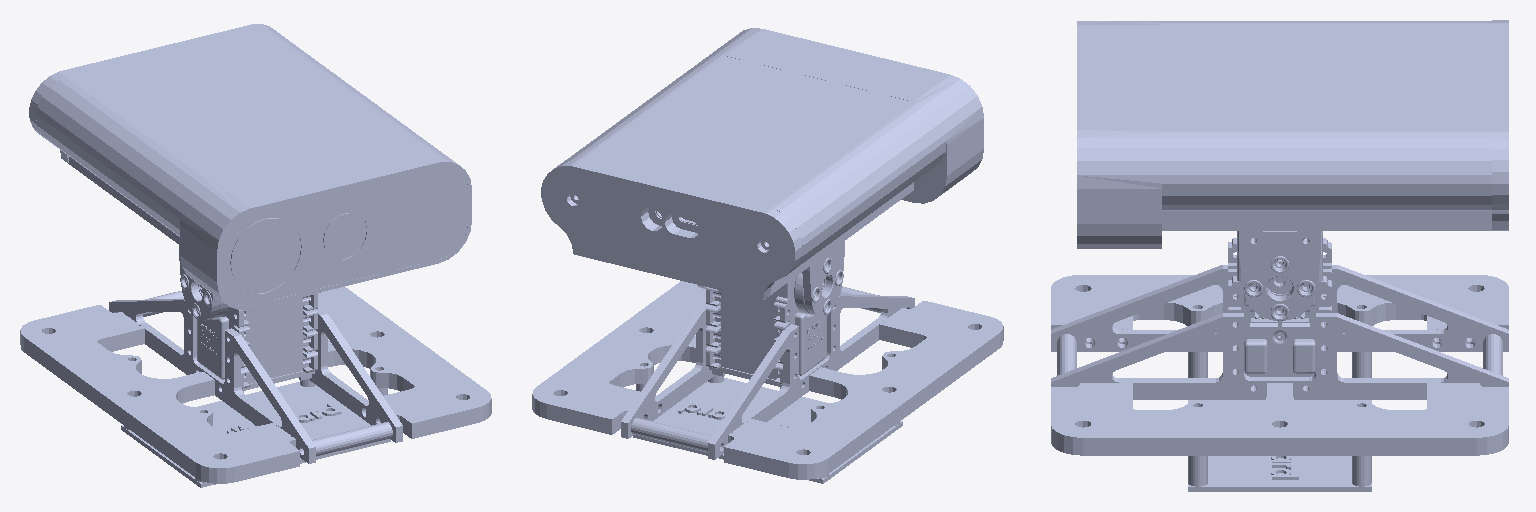
The robot description file, URDF, robot "harvest-studio":
<?xml version="1.0" encoding="utf-8"?>
<!-- This URDF was automatically created by SolidWorks to URDF Exporter! Originally created by [author] ([email redacted]) 
     Commit Version: 1.6.0-1-g15f4949  Build Version: 1.6.7594.29634
     For more information, please see http://wiki.ros.org/sw_urdf_exporter -->
<robot
  name="harvest-studio">
  <link
    name="stand_base">
    <inertial>
      <origin
        xyz="0.000696907579288551 0.241579417748028 0.0643234810436763"
        rpy="0 0 0" />
      <mass
        value="10.2530883442845" />
      <inertia
        ixx="0.301757152337457"
        ixy="1.10550578936288E-09"
        ixz="1.09640049684751E-07"
        iyy="0.326245406728091"
        iyz="-1.56034601111371E-10"
        izz="0.10209204718156" />
    </inertial>
    <visual>
      <origin
        xyz="0 0 0"
        rpy="0 0 0" />
      <geometry>
        <mesh
          filename="package://harvest-studio/meshes/stand_base.STL" />
      </geometry>
      <material
        name="">
        <color
          rgba="0.792156862745098 0.819607843137255 0.933333333333333 1" />
      </material>
    </visual>
    <collision>
      <origin
        xyz="0 0 0"
        rpy="0 0 0" />
      <geometry>
        <mesh
          filename="package://harvest-studio/meshes/stand_base.STL" />
      </geometry>
    </collision>
  </link>
  <link
    name="camera_link">
    <inertial>
      <origin
        xyz="-2.65395705622336E-06 0.00348131731693191 0.0446566695341748"
        rpy="0 0 0" />
      <mass
        value="2.78889236681529" />
      <inertia
        ixx="0.00412183232658975"
        ixy="4.09236432592102E-07"
        ixz="-3.17078315948989E-08"
        iyy="0.00242404662476709"
        iyz="0.000234310769319973"
        izz="0.0060958781082902" />
    </inertial>
    <visual>
      <origin
        xyz="0 0 0"
        rpy="0 0 0" />
      <geometry>
        <mesh
          filename="package://harvest-studio/meshes/camera_link.STL" />
      </geometry>
      <material
        name="">
        <color
          rgba="0.792156862745098 0.819607843137255 0.933333333333333 1" />
      </material>
    </visual>
    <collision>
      <origin
        xyz="0 0 0"
        rpy="0 0 0" />
      <geometry>
        <mesh
          filename="package://harvest-studio/meshes/camera_link.STL" />
      </geometry>
    </collision>
  </link>
  <joint
    name="camera_joint"
    type="fixed">
    <origin
      xyz="0.00085 0.465 0.98"
      rpy="0 0 -3.1416" />
    <parent
      link="stand_base" />
    <child
      link="camera_link" />
    <axis
      xyz="1 0 0" />
    <limit
      lower="-0.5"
      upper="0.5"
      effort="0"
      velocity="0" />
  </joint>
</robot>

--- What the picture shows (computed from the rendered views, not written in the file) ---
3 views of the same robot in one strip: view 1: azimuth 30°, elevation 25°; view 2: azimuth 150°, elevation 25°; view 3: azimuth 270°, elevation 25° (orthographic).
Robot: harvest-studio — 2 links, 1 joints (1 fixed); root link stand_base; default pose: all joints at 0.
Links seen in each view (by area): view 1: camera_link, stand_base; view 2: camera_link, stand_base; view 3: camera_link, stand_base.
Boxes of the visible links, x1,y1,x2,y2 form: camera_link: (29,24,471,320); stand_base: (20,284,491,487); camera_link: (541,28,983,316); stand_base: (532,273,1003,483); camera_link: (1077,20,1508,320); stand_base: (1051,231,1508,491).
Bounding box of the posed robot: 0.118 × 0.14 × 0.1216 m (x, y, z).
2 mesh visuals loaded from 2 distinct referenced files (2 binary STL).